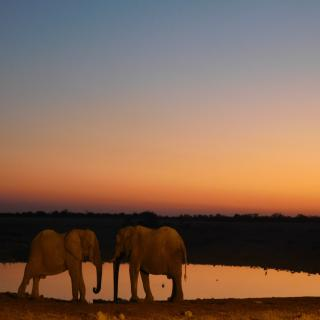Elephant: (14, 225, 104, 308), (110, 219, 190, 308)
